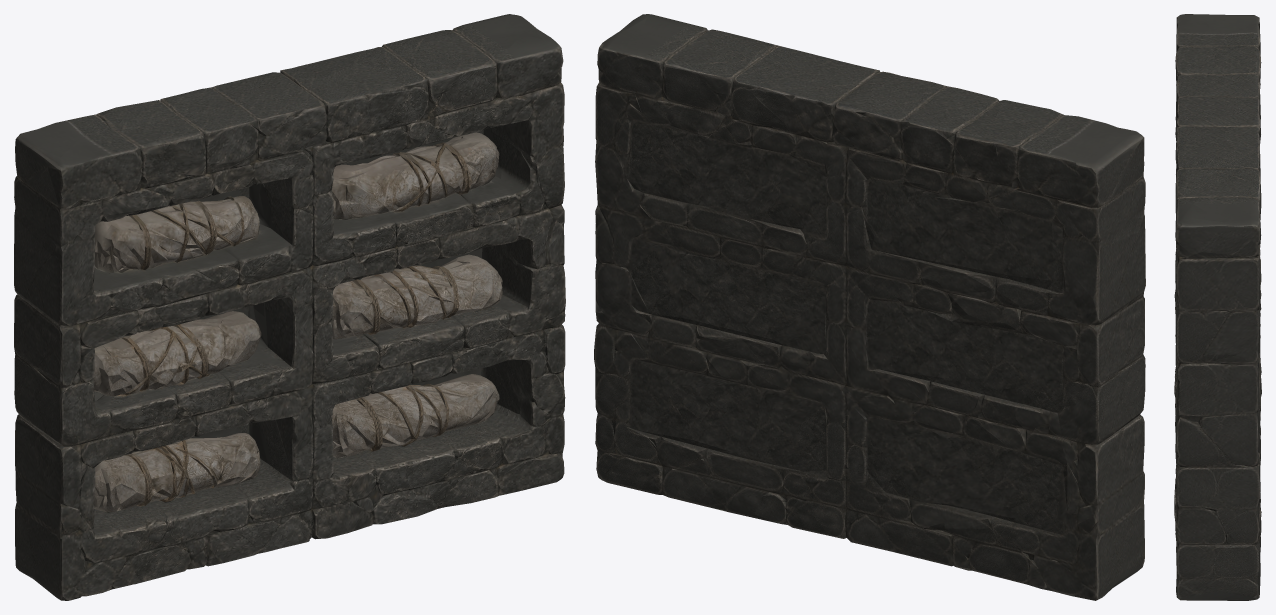
The model's file is wall_loculi.glb.
3 views of the same model, side by side, from view 1: azimuth 30°, elevation 25°; view 2: azimuth 150°, elevation 25°; view 3: azimuth 270°, elevation 25° (orthographic). The views are drawn at different scales.
Parts seen in each view (by area): view 1: Mesh_0; view 2: Mesh_0; view 3: Mesh_0.
Boxes of the visible parts, x1,y1,x2,y2 form: Mesh_0: [14, 14, 565, 600]; Mesh_0: [594, 14, 1145, 600]; Mesh_0: [1174, 14, 1261, 600].
Bounding box in the file's own units: 1.9 × 1.57 × 0.3287.
1 material, 1 textured.
